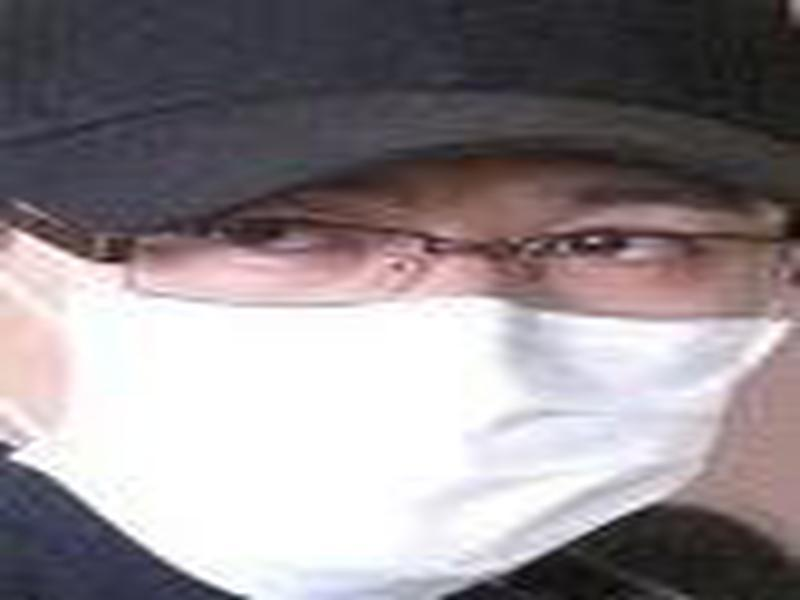with_mask: (1, 150, 793, 600)
